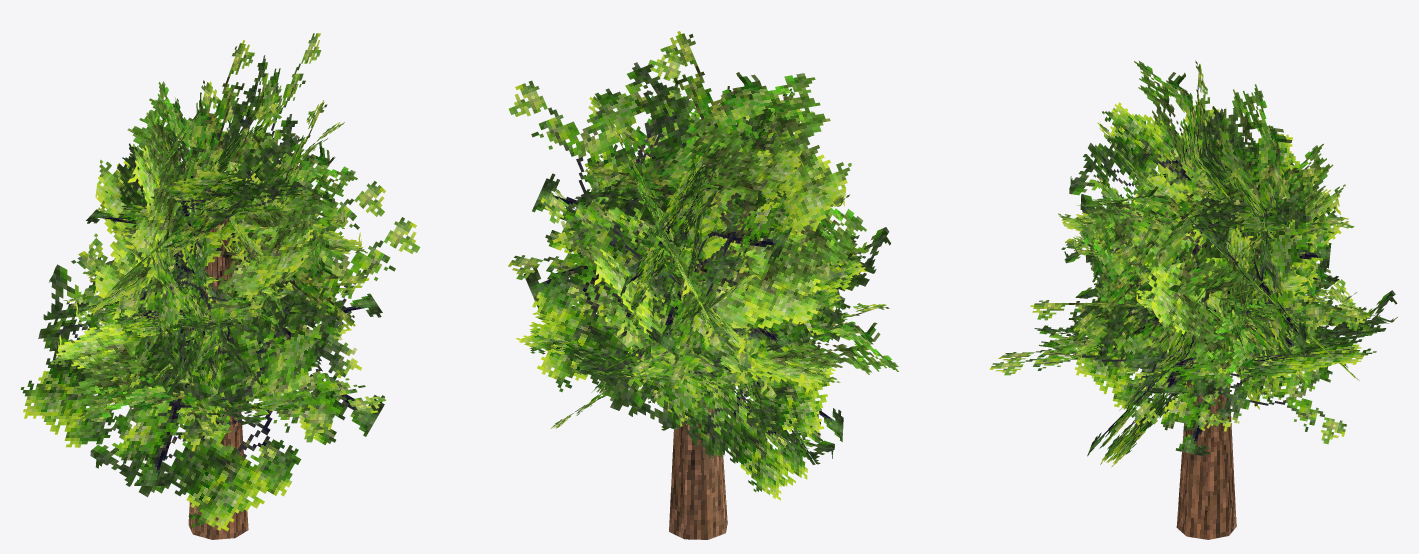
Rendered from Tree.glb.
3 renders of one model, left to right at view 1: azimuth 30°, elevation 25°; view 2: azimuth 150°, elevation 25°; view 3: azimuth 270°, elevation 25°, orthographic. The views are drawn at different scales.
Parts seen in each view (by area): view 1: Cylinder.039; view 2: Cylinder.039; view 3: Cylinder.039.
Part boxes in pixels (<box>): Cylinder.039: <box>20,33,420,539</box>; Cylinder.039: <box>508,31,898,539</box>; Cylinder.039: <box>989,60,1397,539</box>.
Bounding box in the file's own units: 0.853 × 1.09 × 0.8744.
2 materials, 2 textured.
